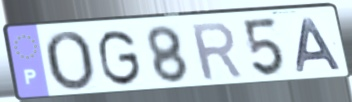5: (239, 15, 288, 80)
8: (144, 23, 191, 87)
A: (295, 16, 345, 75)
G: (96, 27, 144, 89)
O: (42, 29, 97, 94)
R: (188, 19, 246, 84)
